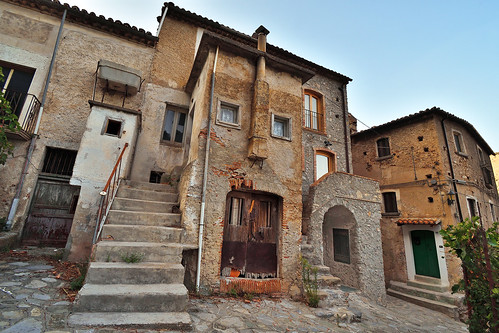building: (1, 12, 367, 300), (360, 110, 499, 307)
sky: (351, 1, 499, 109)
